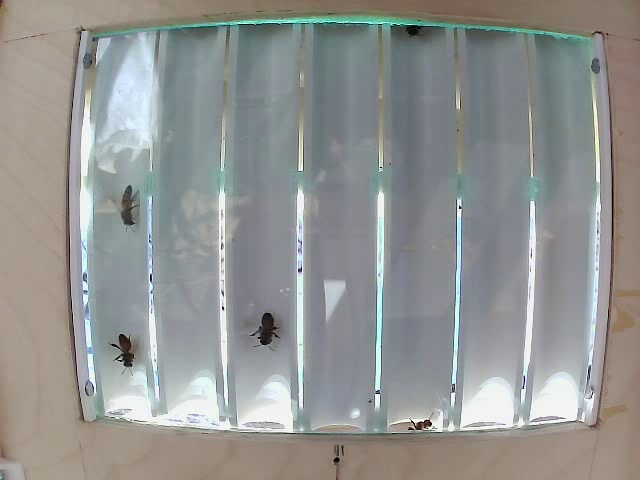bee: (239, 306, 299, 356), (109, 181, 163, 229), (105, 337, 144, 378)
